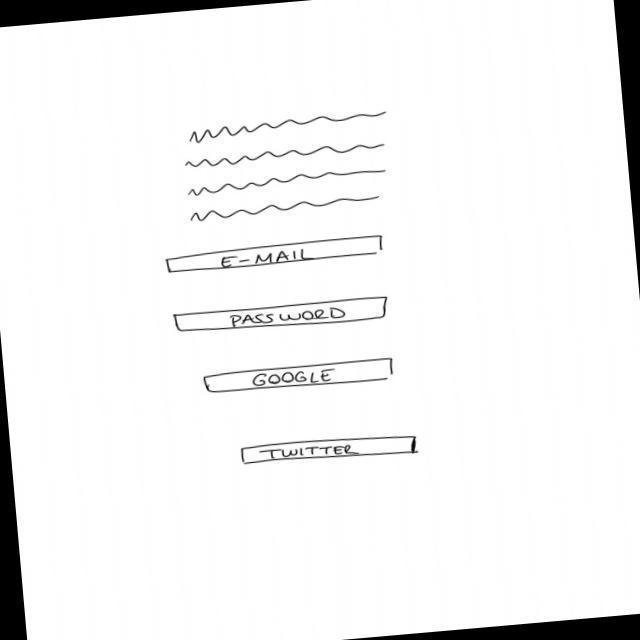button: (172, 293, 392, 338), (164, 234, 388, 278), (201, 356, 399, 397), (238, 430, 422, 471)
textbox: (175, 108, 397, 228)
